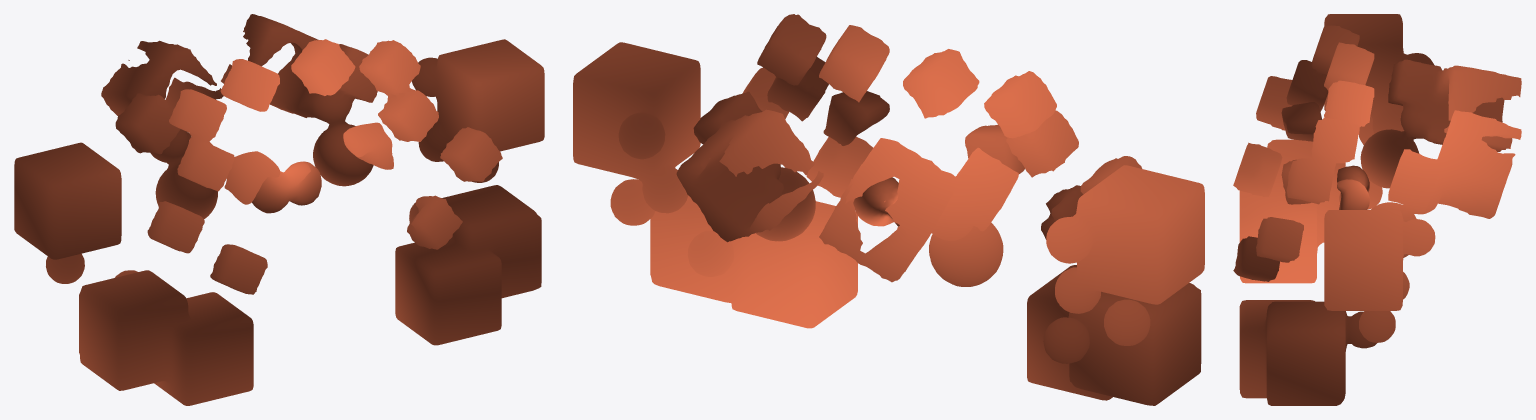
3 renders of one model, left to right at view 1: azimuth 30°, elevation 25°; view 2: azimuth 150°, elevation 25°; view 3: azimuth 270°, elevation 25°, orthographic. The views are drawn at different scales.
Visible parts, largest first — view 1: GDExample; view 2: GDExample; view 3: GDExample.
Part boxes in pixels (x1,y1,x2,y2): GDExample: (14,14,544,405); GDExample: (573,14,1204,405); GDExample: (1233,14,1521,405).
Bounding box in the file's own units: 14.02 × 7.49 × 7.45.
